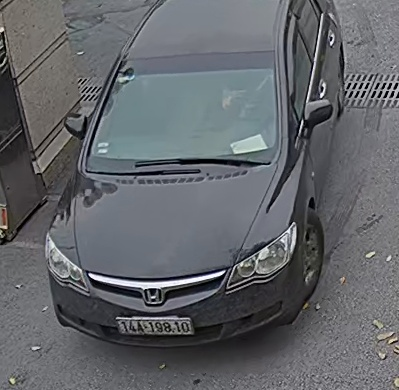vehicle plate: (116, 311, 199, 340)
